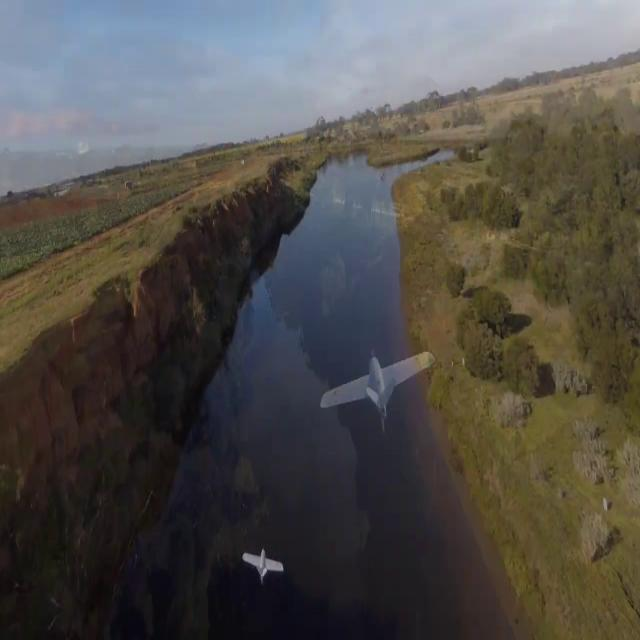iha: (349, 379, 403, 381)
